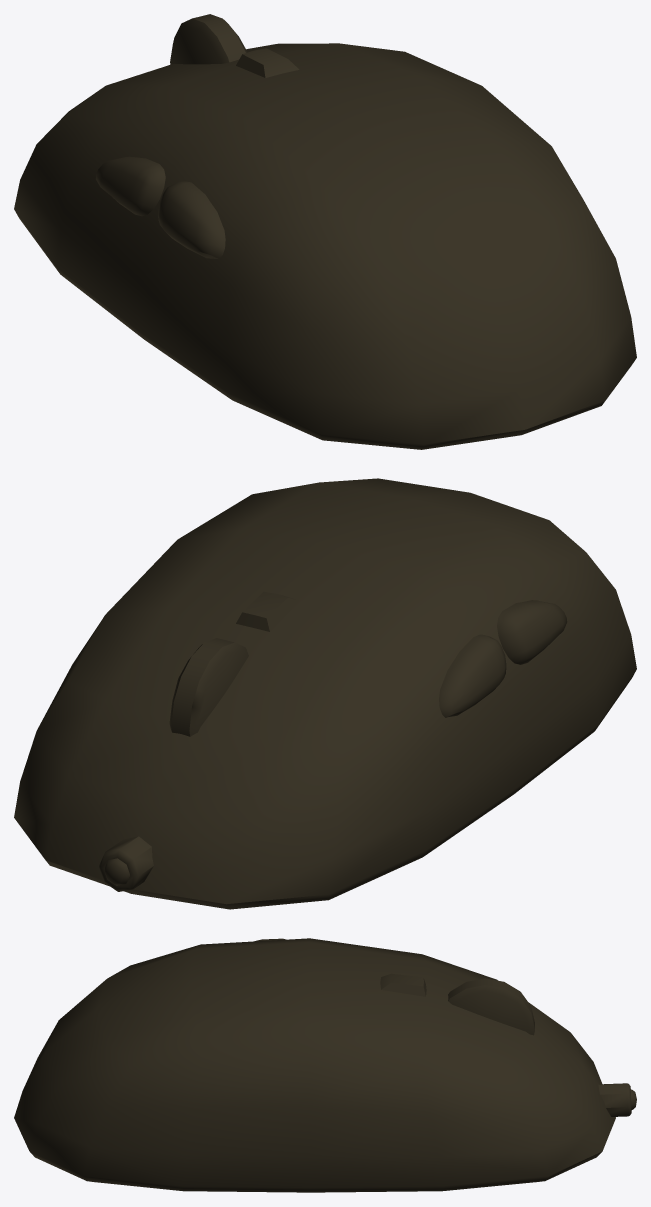
The model's file is PC_Mouse.fbx.
3 renders of one model, top to bottom at view 1: azimuth 30°, elevation 25°; view 2: azimuth 150°, elevation 25°; view 3: azimuth 270°, elevation 25°, orthographic. The views are drawn at different scales.
Parts seen in each view (by area): view 1: PC_Mouse; view 2: PC_Mouse; view 3: PC_Mouse.
Part boxes in pixels (x1,y1,x2,y2): PC_Mouse: (14, 14, 636, 449); PC_Mouse: (14, 478, 636, 909); PC_Mouse: (14, 938, 636, 1192).
Bounding box in the file's own units: 6.59 × 3.52 × 12.46.
